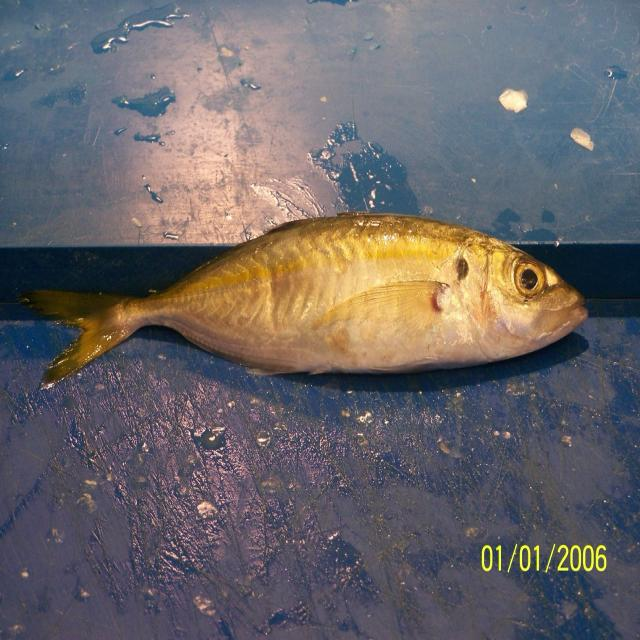Hourse-Mackerel-istavrit-: (18, 212, 590, 391)
